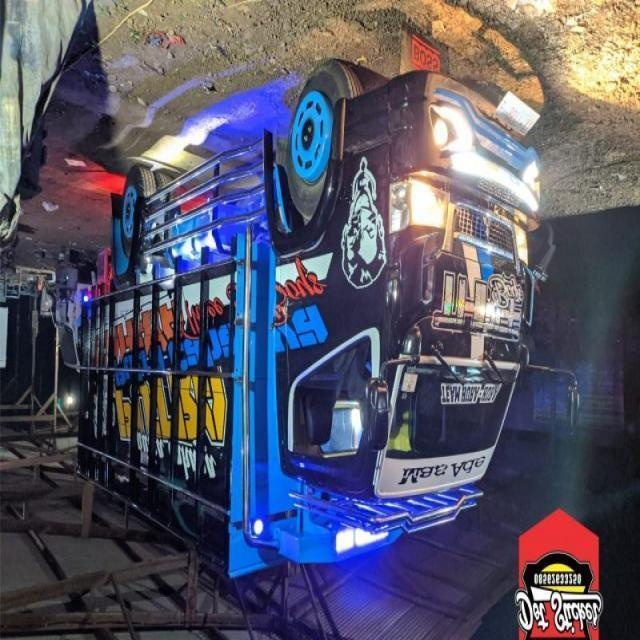Truck: (78, 60, 578, 579)
